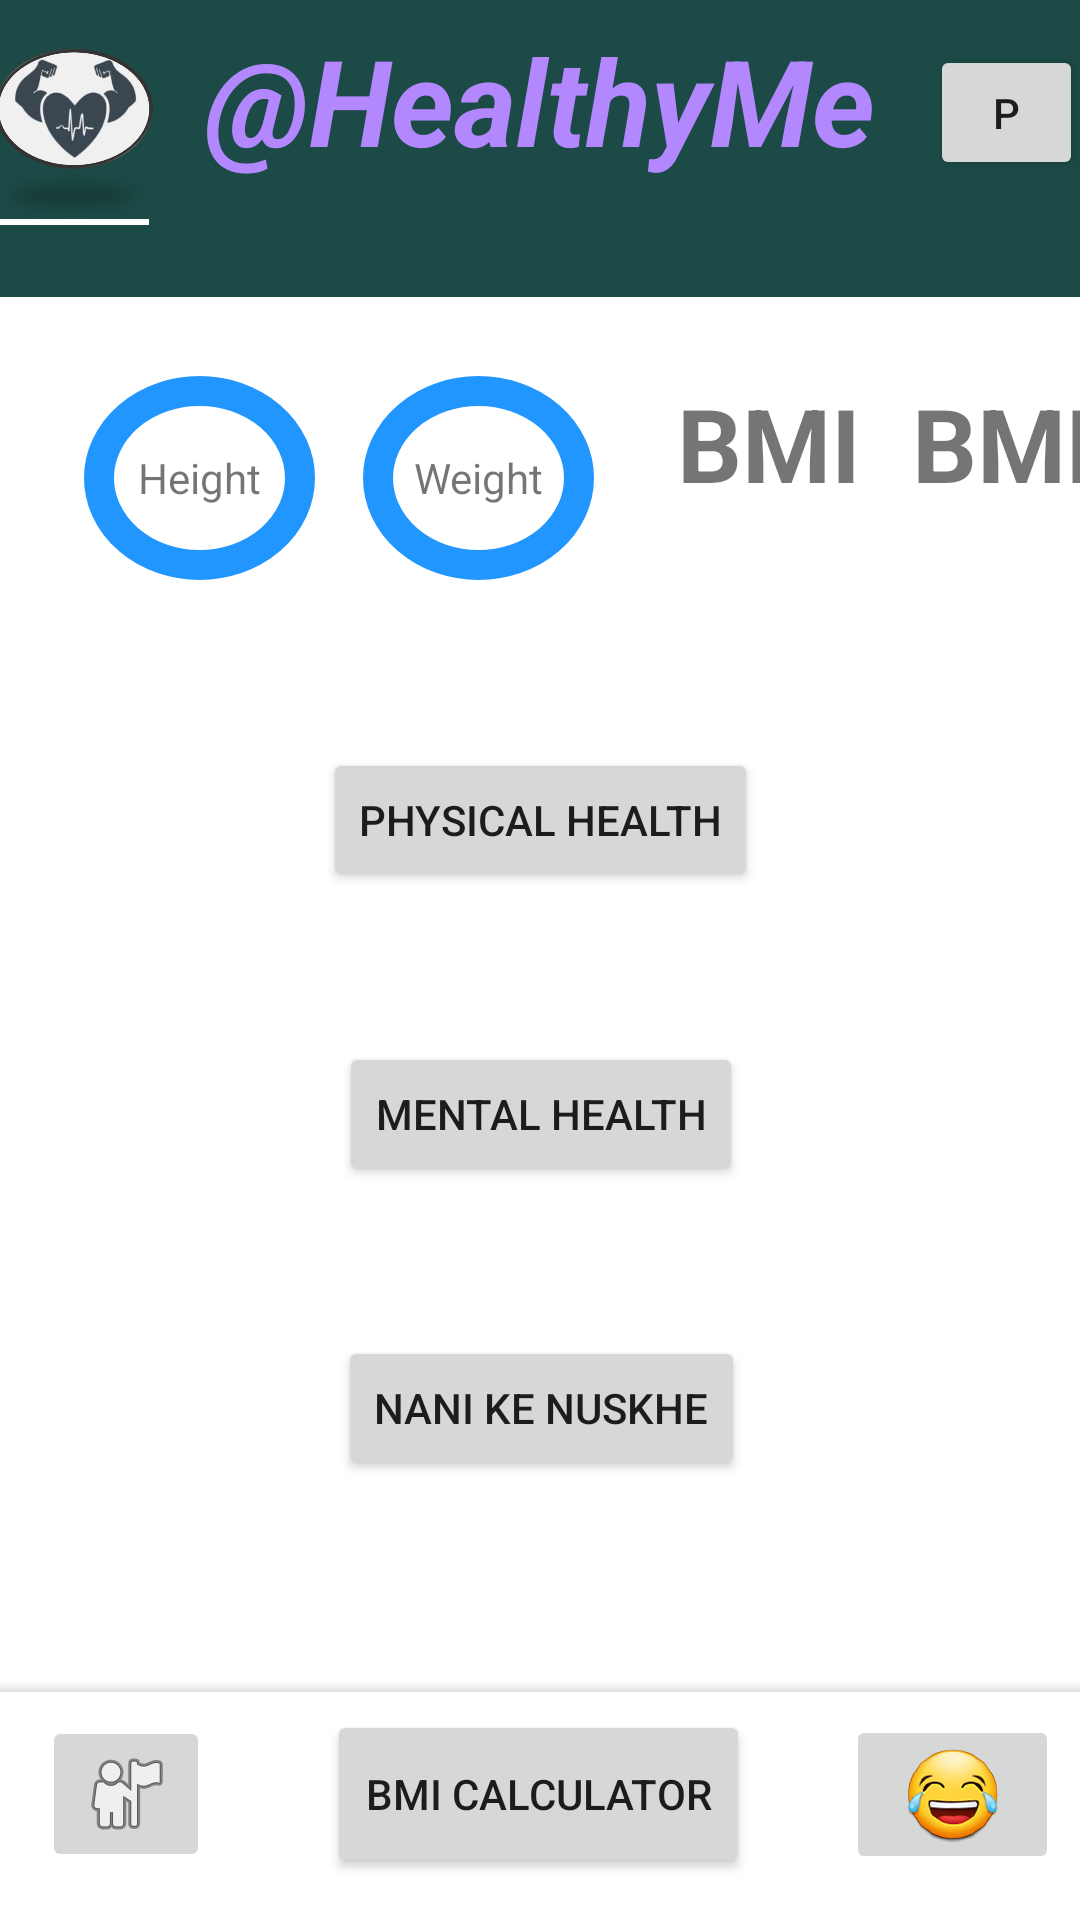

Named icons in this screenshot (1080w x 1920h) and their bounding boxes, (x1, y1, x2, y2):
emoji: (858, 1733, 1047, 1856)
myplaces: (54, 1734, 198, 1854)
